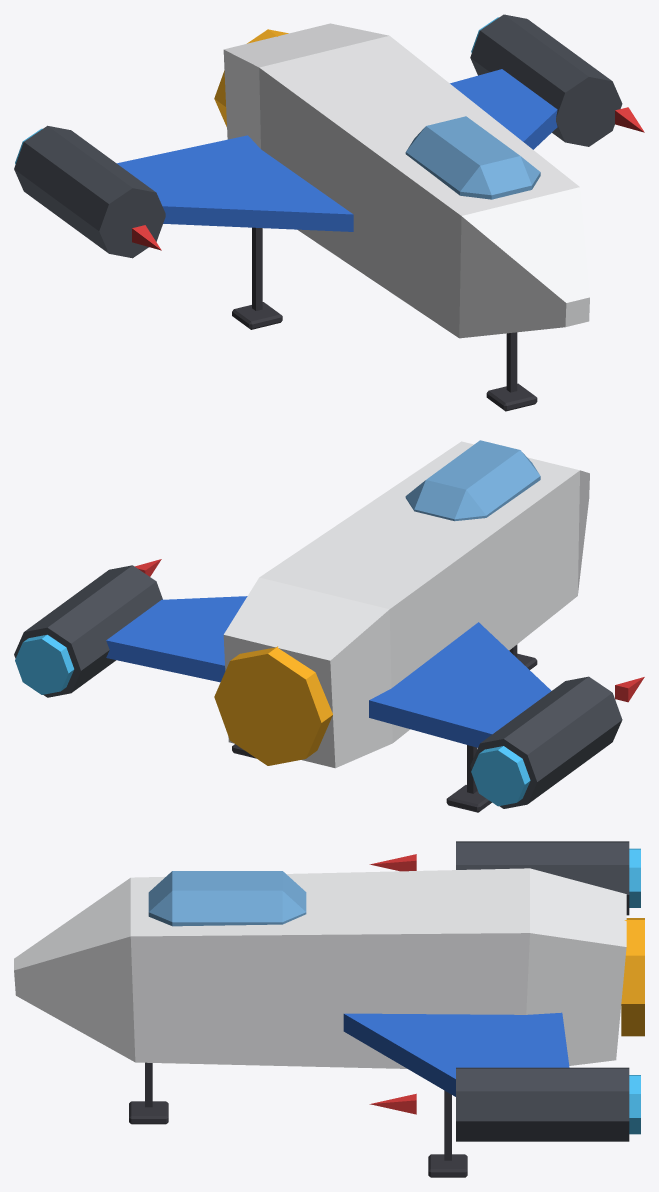
Rendered from Spaceship.fbx.
The picture shows the model from 3 angles, top to bottom: view 1: azimuth 30°, elevation 25°; view 2: azimuth 150°, elevation 25°; view 3: azimuth 270°, elevation 25°; orthographic projection.
Visible parts, largest first — view 1: Spaceship; view 2: Spaceship; view 3: Spaceship.
Part boxes in pixels (x1,y1,x2,y2): Spaceship: (14, 14, 644, 411); Spaceship: (14, 440, 644, 812); Spaceship: (14, 841, 644, 1177).
Size of the model in its own units: 7.8 by 3.31 by 8.01.
1 material, 1 textured.
